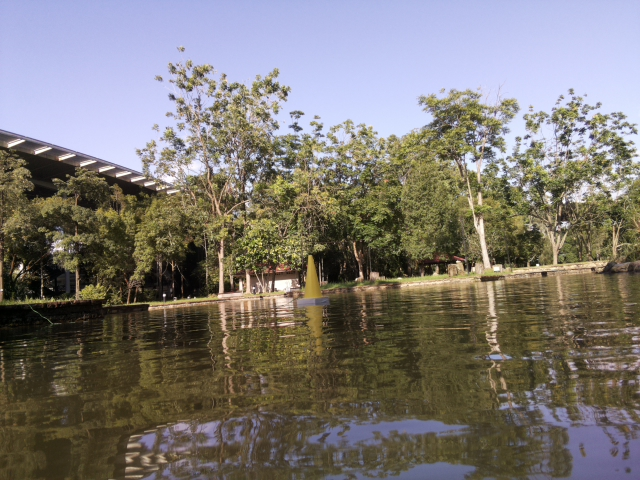checkpoint: (296, 254, 331, 310)
